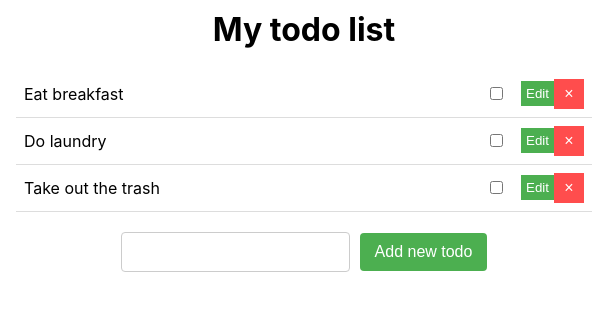
Test: <App /> tests › should add a todo item
Type "Do math homework" into the field at point(235, 252), box [121,232,350,272]
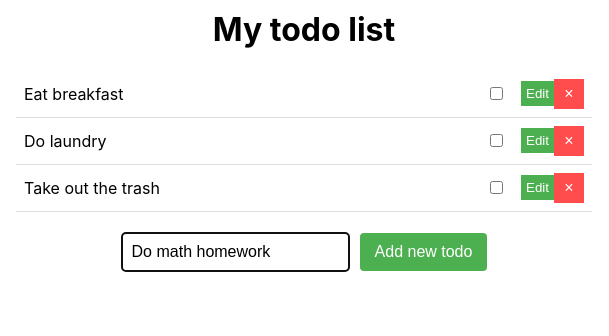
Click the button "Add new todo" at point(424, 252), box [360,233,488,271]
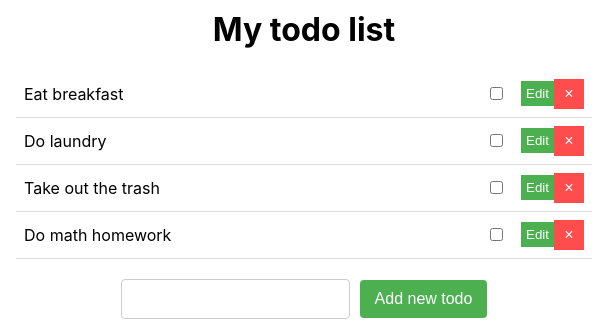
Expected: the text "Do math homework" is shown, [24,225,171,245]
